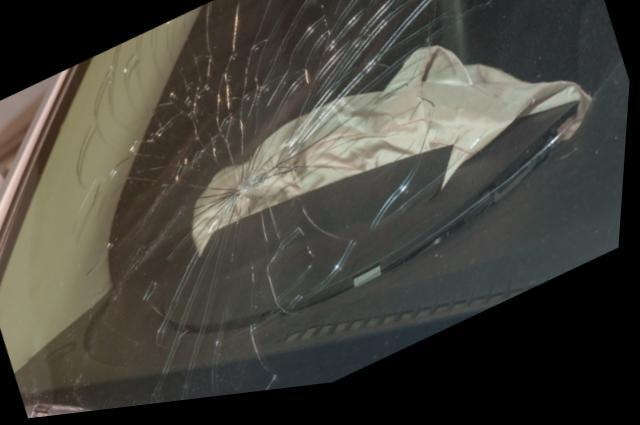glass shatter: (0, 0, 632, 420)
